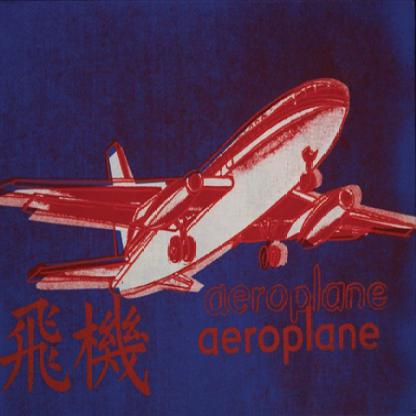CIV_Plane: (2, 72, 416, 308)
